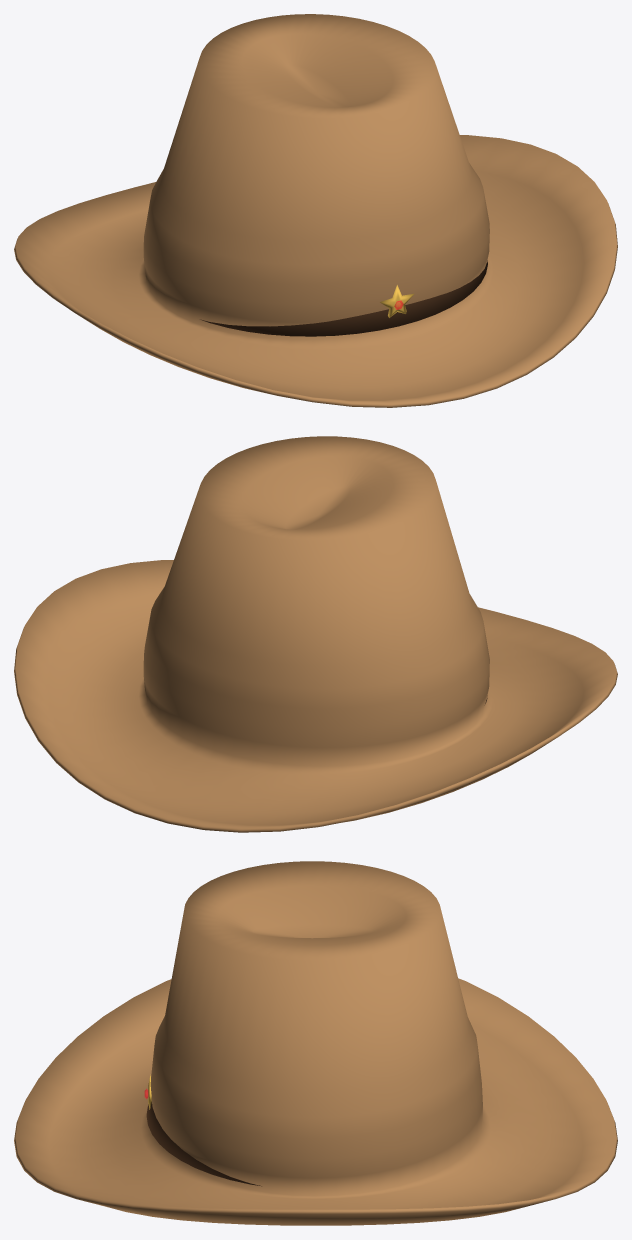
Rendered from cowboy_hat.glb.
The picture shows the model from 3 angles, top to bottom: view 1: azimuth 30°, elevation 25°; view 2: azimuth 150°, elevation 25°; view 3: azimuth 270°, elevation 25°; orthographic projection.
Visible parts, largest first — view 1: cowboy_hat; view 2: cowboy_hat; view 3: cowboy_hat.
Part boxes in pixels (x1,y1,x2,y2): cowboy_hat: (14, 14, 617, 407); cowboy_hat: (14, 436, 617, 832); cowboy_hat: (14, 861, 617, 1225).
Size of the model in its own units: 0.4698 by 0.2 by 0.4582.
